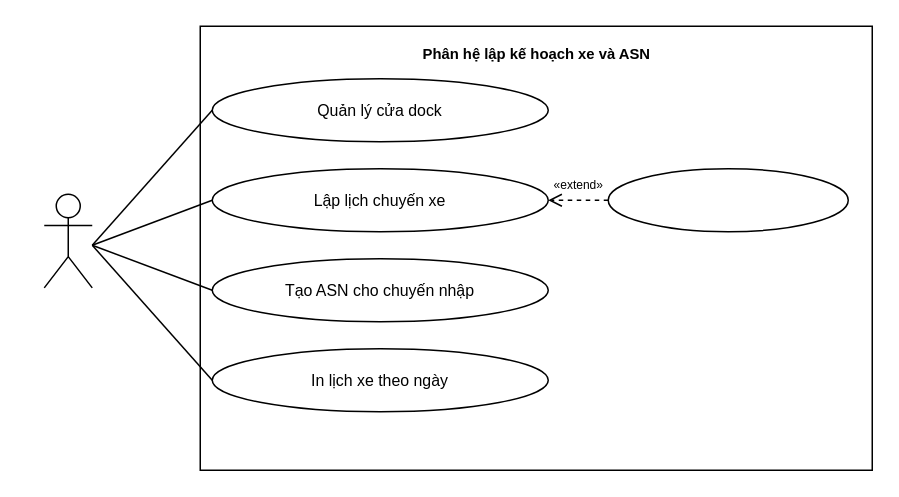
Image size: 899x497. Some labels were removed from this diagram. Here are the shapes that lost their labels. From the top down, the centre of each, then its label:
the point at 727,199: Cập nhật / hủy chuyến xe
the point at 67,240: Quản lý kho
